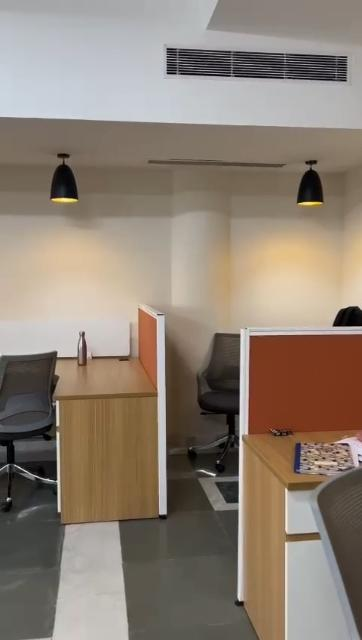floor: (3, 455, 259, 640)
object: (244, 424, 362, 640), (54, 357, 160, 515), (2, 352, 54, 506), (204, 323, 240, 487), (72, 325, 92, 365)
wall: (42, 212, 362, 300), (4, 8, 168, 116), (0, 85, 362, 133), (0, 1, 362, 42), (58, 123, 362, 155), (95, 177, 288, 221), (2, 123, 45, 299), (186, 296, 330, 324), (171, 286, 195, 438), (334, 159, 362, 223)
